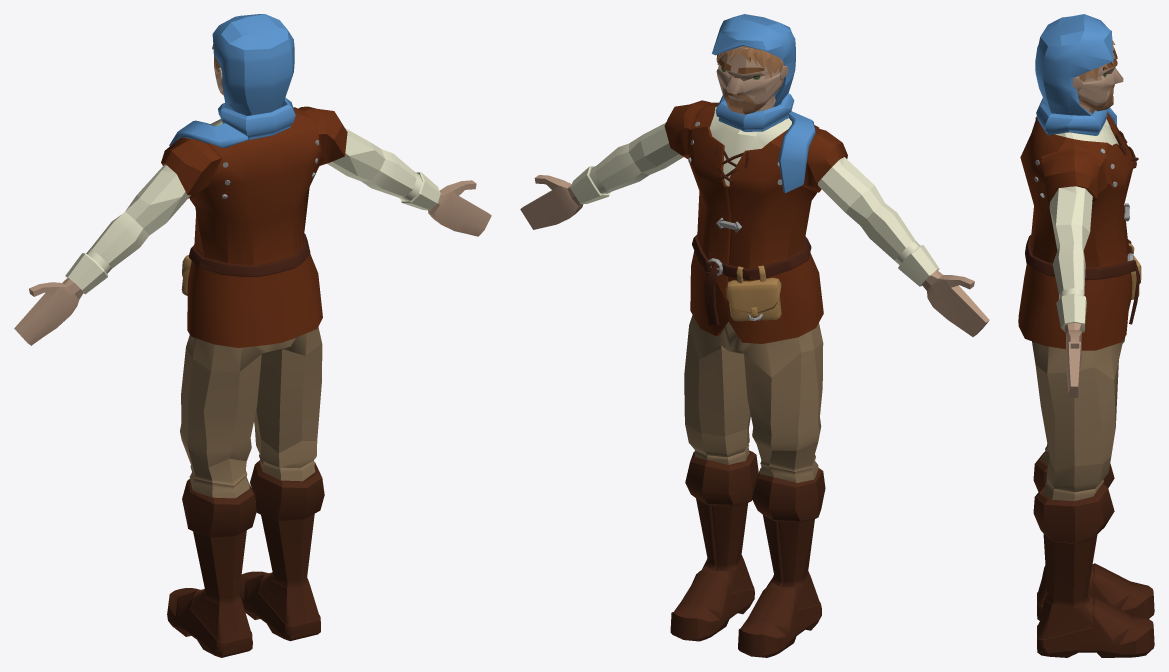
Rendered from yakub_model_20-01-22.fbx.
3 renders of one model, left to right at view 1: azimuth 30°, elevation 25°; view 2: azimuth 150°, elevation 25°; view 3: azimuth 270°, elevation 25°, orthographic.
Parts seen in each view (by area): view 1: Lederjacke3, Schuhe1, Hose, Hemd, Schal_kopf, Haut, Schal_hals, Gürtel; view 2: Lederjacke3, Schuhe1, Hose, Hemd, Haut, Schal_hals, Schal_kopf, Tasche, Gürtel, Haare; view 3: Lederjacke3, Schuhe1, Hose, Schal_kopf, Hemd, Haut, Schal_hals, Gürtel, Tasche.
Part boxes in pixels (x1,y1,x2,y2): Lederjacke3: (161, 106, 347, 347); Schuhe1: (167, 460, 324, 657); Hose: (180, 327, 322, 498); Hemd: (65, 119, 440, 294); Schal_kopf: (212, 14, 294, 115); Haut: (14, 65, 491, 345); Schal_hals: (169, 97, 295, 148); Gürtel: (189, 233, 310, 276); Lederjacke3: (664, 100, 847, 343); Schuhe1: (670, 450, 825, 657); Hose: (684, 315, 823, 482); Hemd: (570, 104, 939, 286); Haut: (520, 47, 989, 336); Schal_hals: (715, 93, 815, 193); Schal_kopf: (712, 14, 795, 107); Tasche: (726, 277, 781, 321); Gürtel: (692, 234, 811, 325); Haare: (716, 46, 784, 90); Lederjacke3: (1018, 112, 1134, 350); Schuhe1: (1033, 451, 1154, 657); Hose: (1032, 337, 1125, 501); Schal_kopf: (1035, 14, 1113, 115); Hemd: (1049, 119, 1118, 332); Haut: (1064, 52, 1123, 397); Schal_hals: (1036, 98, 1116, 135); Gürtel: (1025, 235, 1139, 324); Tasche: (1131, 256, 1141, 299).
Bounding box in the file's own units: 140 × 173 × 34.9.
Materials: 1 (1 with a texture image).
